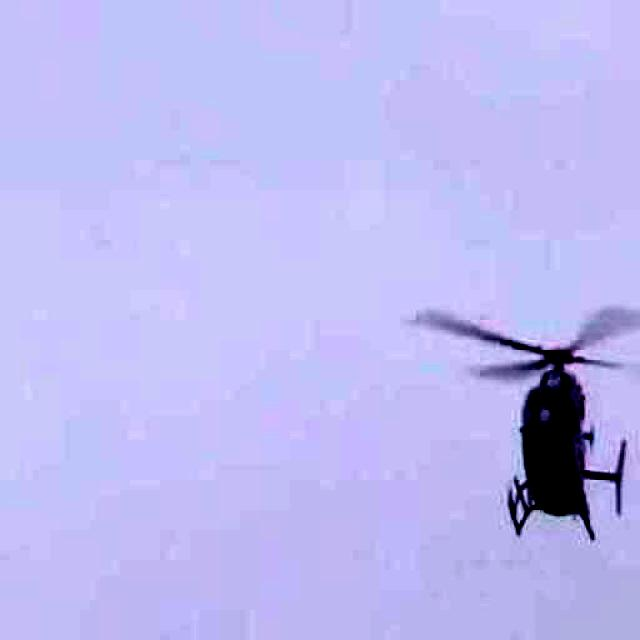drone: (388, 262, 640, 562)
